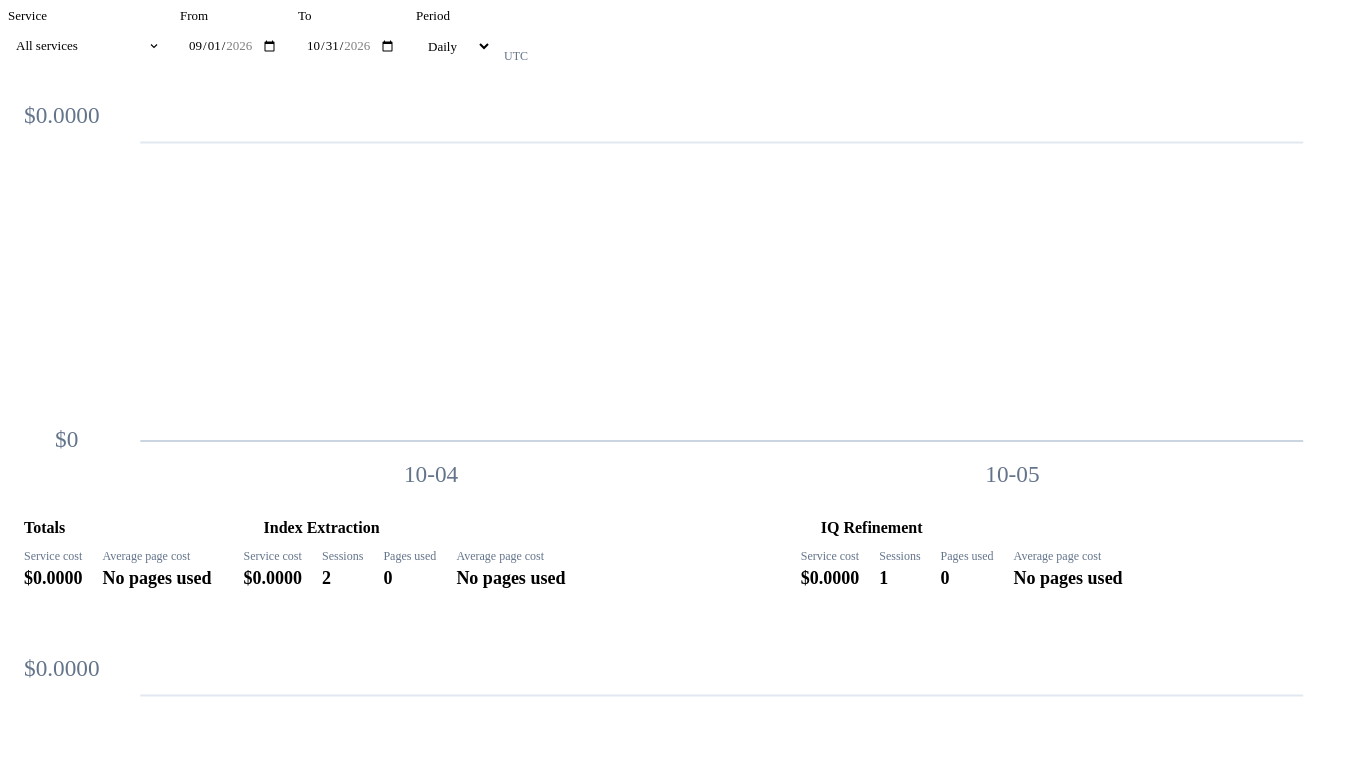
Test: renders finite zero-cost bars and keeps no-page metrics for page services
The width and height of the screenshot is (1366, 768).
Expected: the text "$0.0000" below "Totals" is shown, [24,568,82,589]
Type "2026-10-06" into the date field labelled "From" at point(233, 46), box [180,28,286,64]
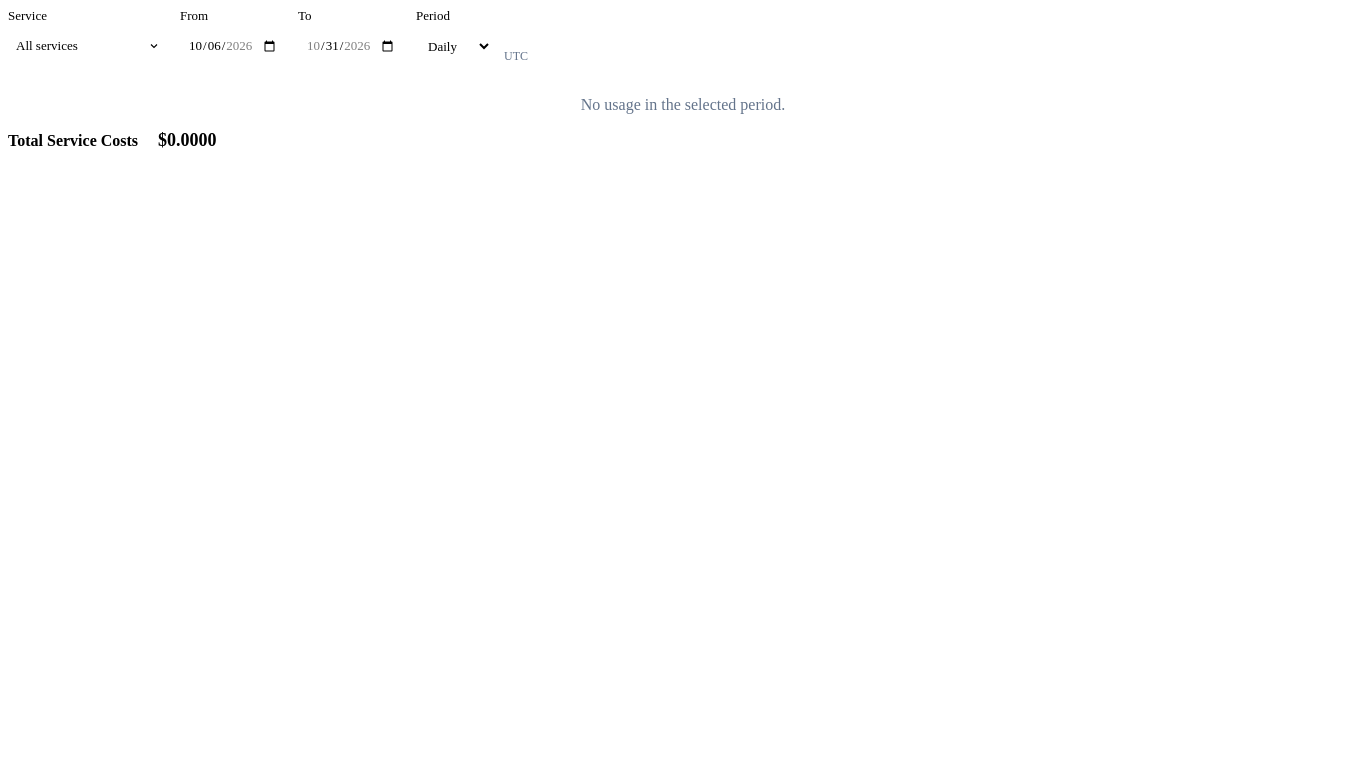
Result: the picture is gone
Result: the text "No usage in the selected period." is shown at [581,96,785,113]
